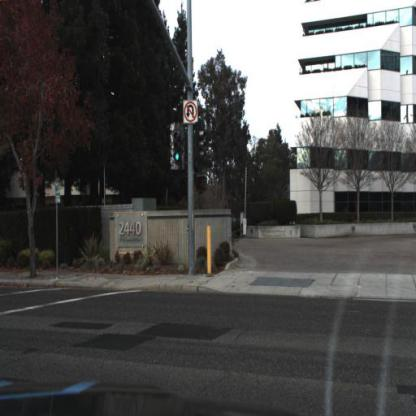trafficLight-Green: (172, 121, 186, 170), (175, 134, 181, 167)
